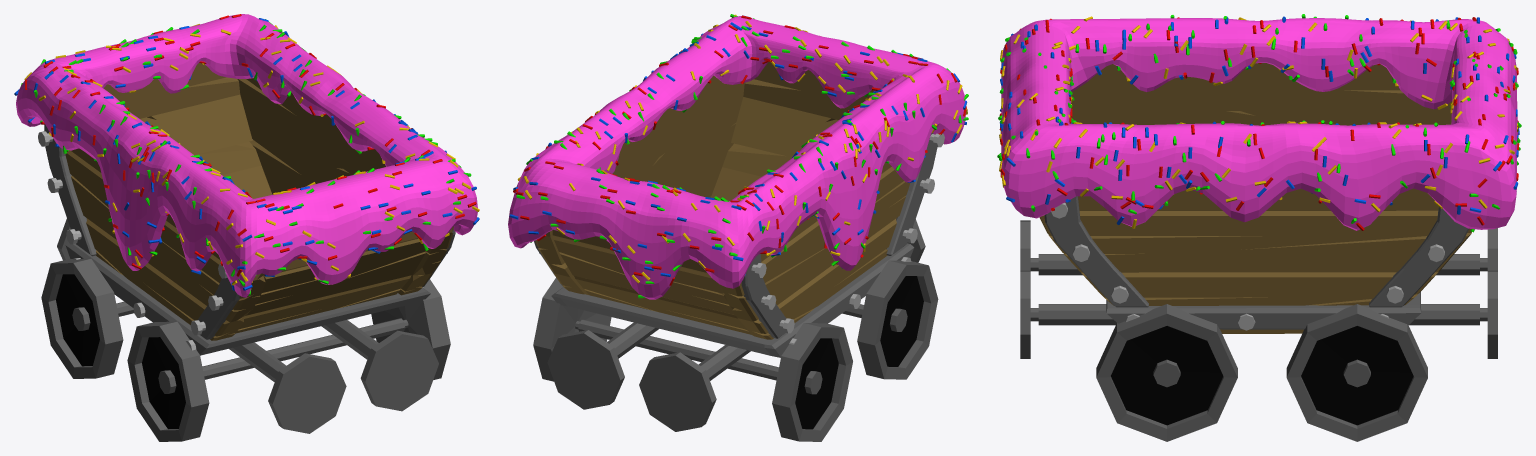
Rendered from vagon_tahta_candy.fbx.
3 views of the same model, side by side, from view 1: azimuth 30°, elevation 25°; view 2: azimuth 150°, elevation 25°; view 3: azimuth 270°, elevation 25° (orthographic). The views are drawn at different scales.
Visible parts, largest first — view 1: Cube.001, Cylinder.005, Cylinder.007, Cylinder, Cube.002, Cylinder.019; view 2: Cube.001, Cylinder.005, Cylinder.007, Cylinder, Cube.002, Cylinder.019; view 3: Cube.001, Cylinder.005, Cylinder.007, Cube.002, Cylinder, Cylinder.019.
Part boxes in pixels (x1,y1,x2,y2): Cube.001: (16,14,477,297); Cylinder.005: (65,63,453,340); Cylinder.007: (41,258,450,441); Cylinder: (57,219,438,433); Cube.002: (44,124,455,355); Cylinder.019: (38,131,447,350); Cube.001: (508,16,965,299); Cylinder.005: (535,62,910,339); Cylinder.007: (533,260,938,441); Cylinder: (547,219,925,431); Cube.002: (534,133,937,357); Cylinder.019: (539,133,944,344); Cube.001: (1001,18,1518,230); Cylinder.005: (1039,63,1471,333); Cylinder.007: (1096,304,1427,441); Cube.002: (1044,196,1468,329); Cylinder: (1020,220,1497,358); Cylinder.019: (1051,203,1444,330).
Bounding box in the file's own units: 386 × 390 × 610.
